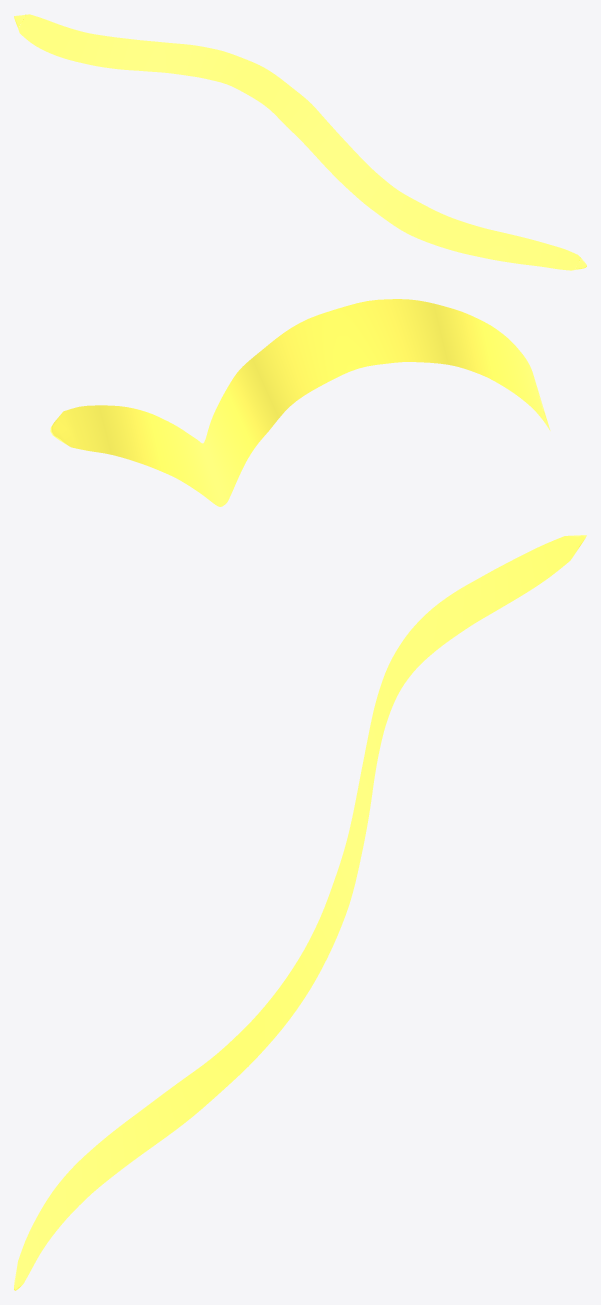
Rendered from Fusili.009.gltf.
3 renders of one model, top to bottom at view 1: azimuth 30°, elevation 25°; view 2: azimuth 150°, elevation 25°; view 3: azimuth 270°, elevation 25°, orthographic. The views are drawn at different scales.
Parts seen in each view (by area): view 1: Fusili.009; view 2: Fusili.009; view 3: Fusili.009.
Part boxes in pixels (box(x1,y1,x2,y2)): Fusili.009: box(14, 14, 586, 270); Fusili.009: box(50, 299, 550, 506); Fusili.009: box(14, 535, 586, 1290).
Bounding box in the file's own units: 4.54 × 2.52 × 3.14.
